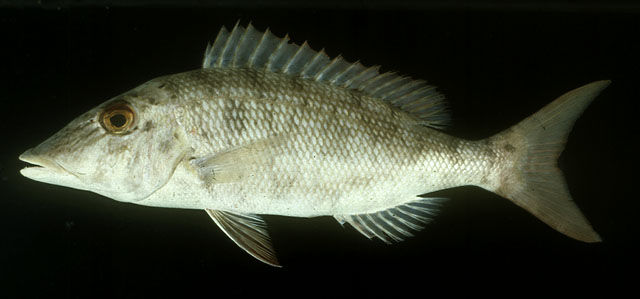fish: (19, 18, 613, 267)
